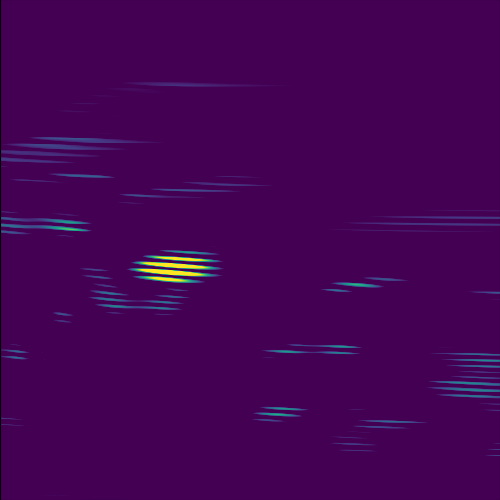semblance: (127, 247, 226, 285)
